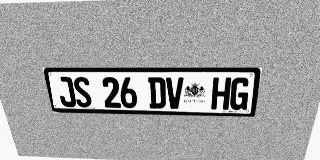2: (101, 77, 121, 108)
6: (119, 77, 137, 108)
D: (148, 77, 166, 109)
G: (229, 77, 251, 110)
H: (211, 77, 232, 110)
J: (55, 77, 77, 107)
S: (72, 77, 93, 107)
V: (166, 77, 183, 109)
